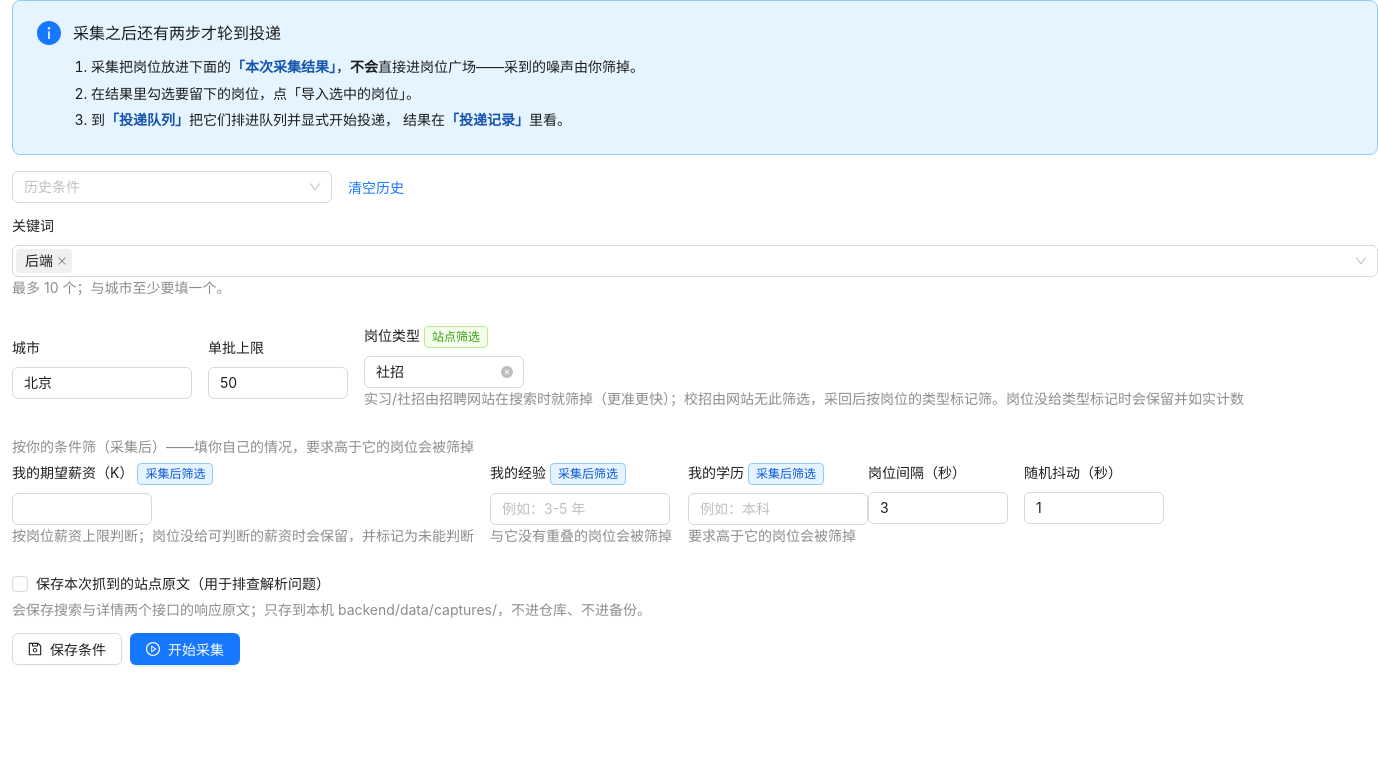
Test: CollectPanel 条件历史 › 历史下拉回填表单字段
# 保存「北京」，改成「上海」再保存一条 → 两条历史（各自自动选中）。
Click the button "保存条件": (67, 649) [12,633,122,665]
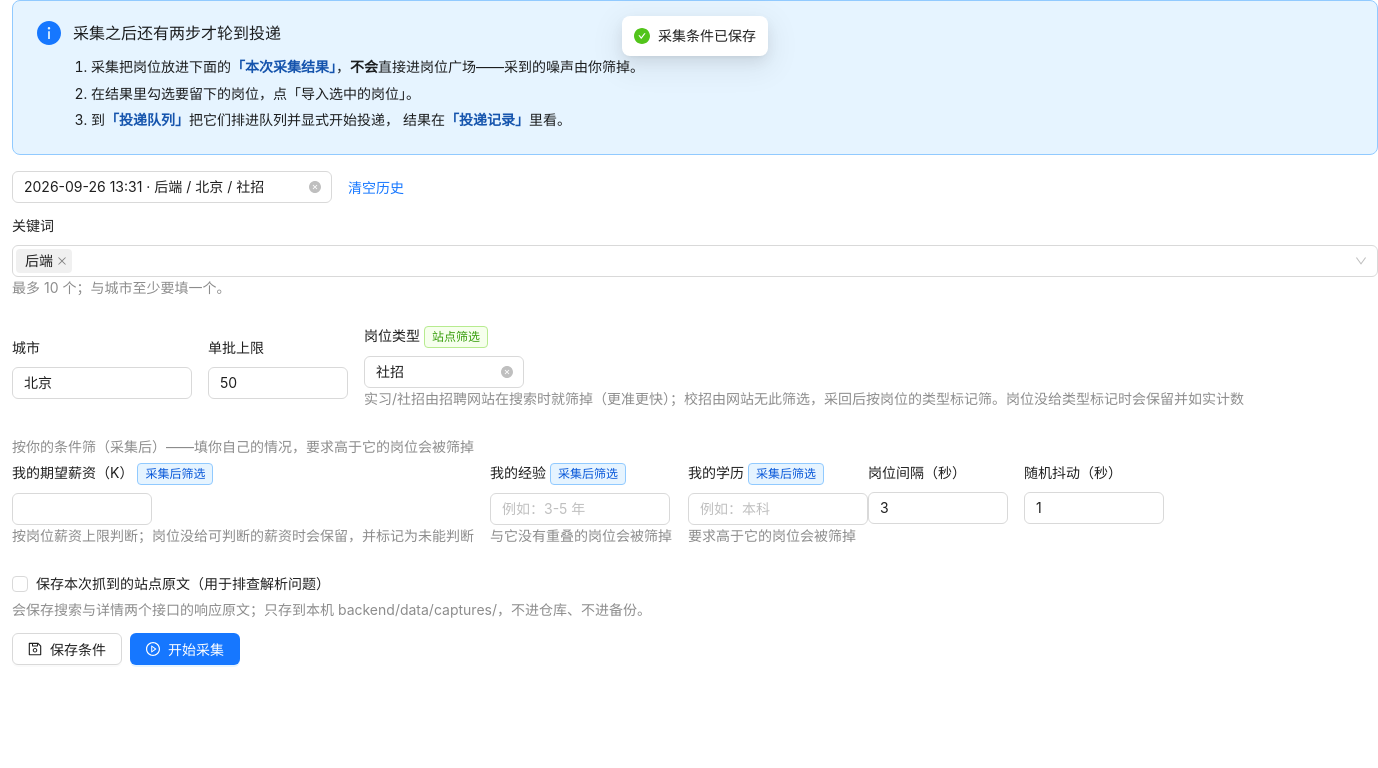
Replace the text in the field with placeholder "例如：北京" with "上海": (102, 383) [12,367,192,399]
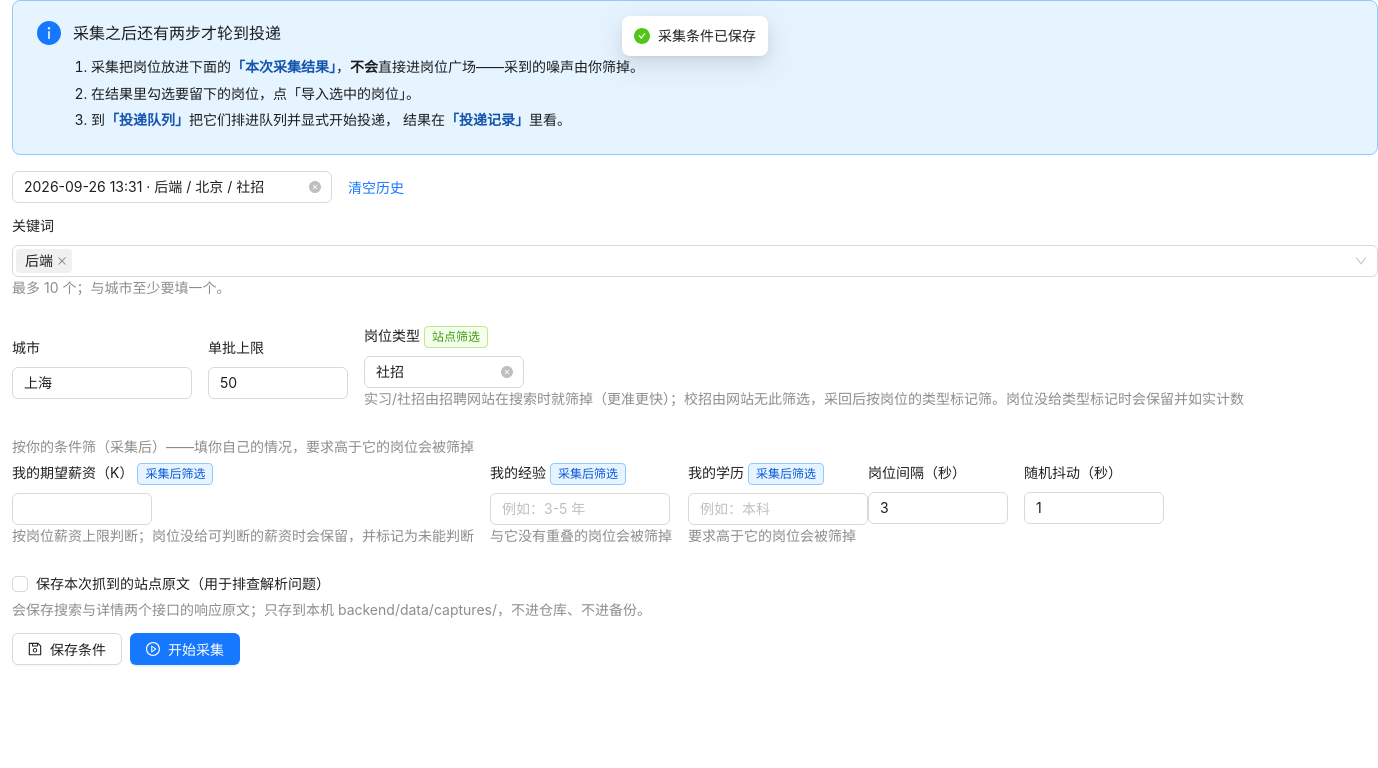
Click the button "保存条件": (67, 649) [12,633,122,665]
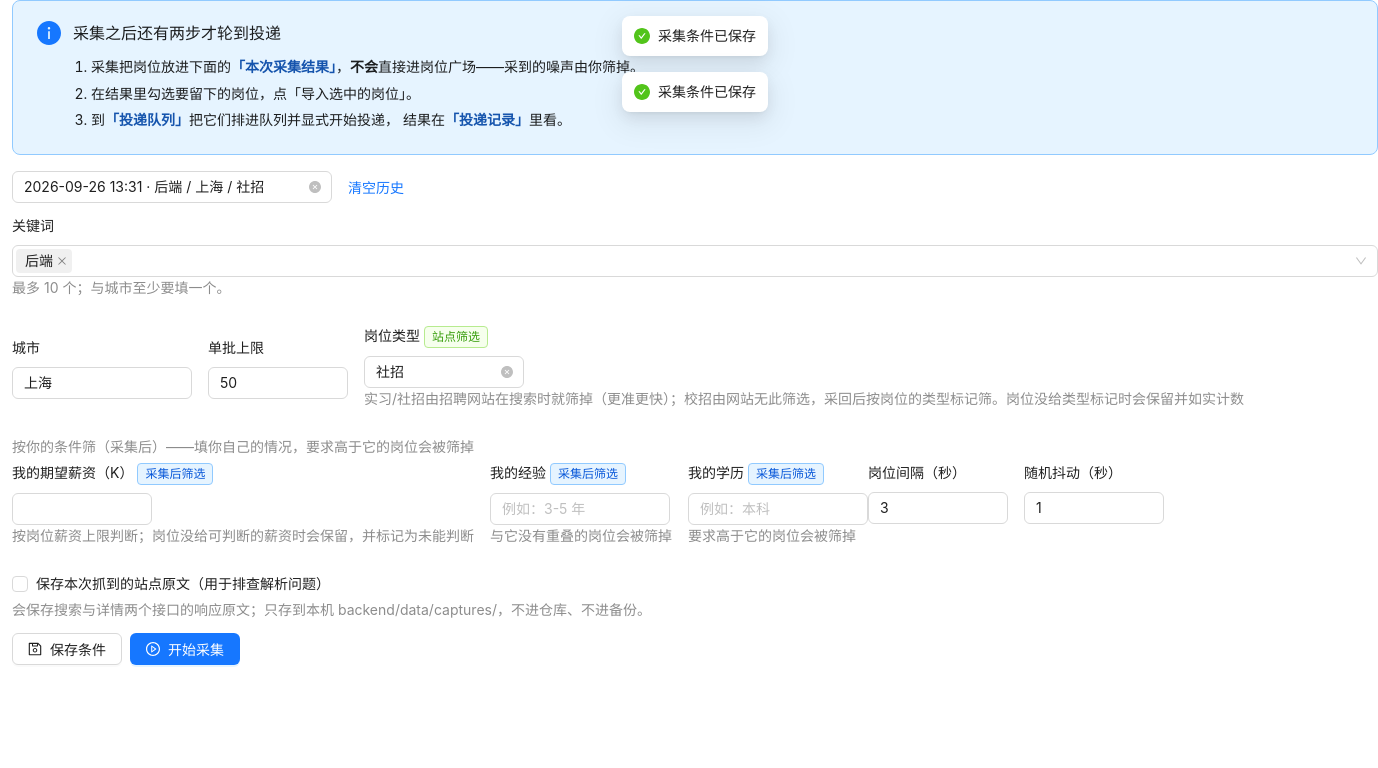
# 选中第一条（北京）历史：当前已选中「上海」，切到「北京」才会触发 onChange 回填。
Press the mouse on the dropdown named "历史条件": (144, 186) [24,178,264,195]
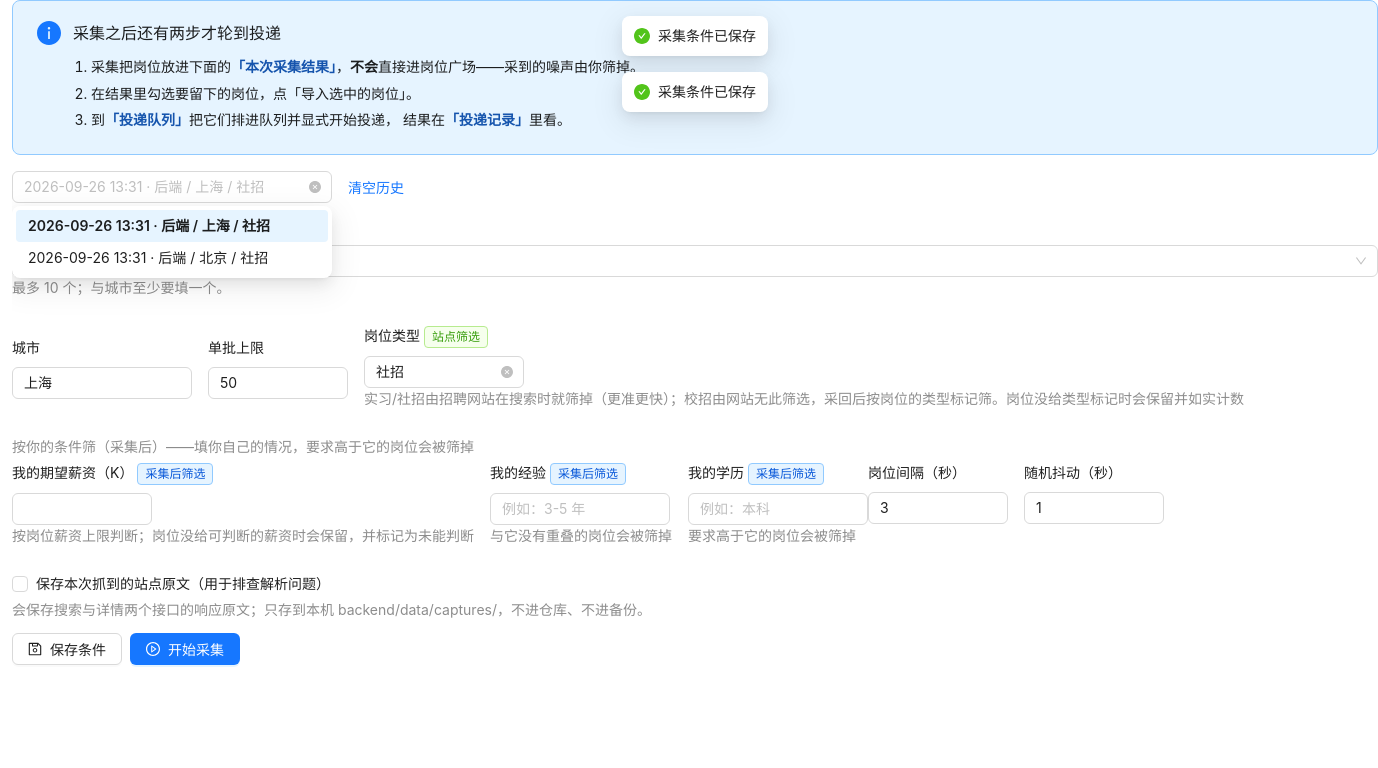
Click the text "2026-09-26 13:31 · 后端 / 北京 / 社招": (148, 258) [28,249,268,266]
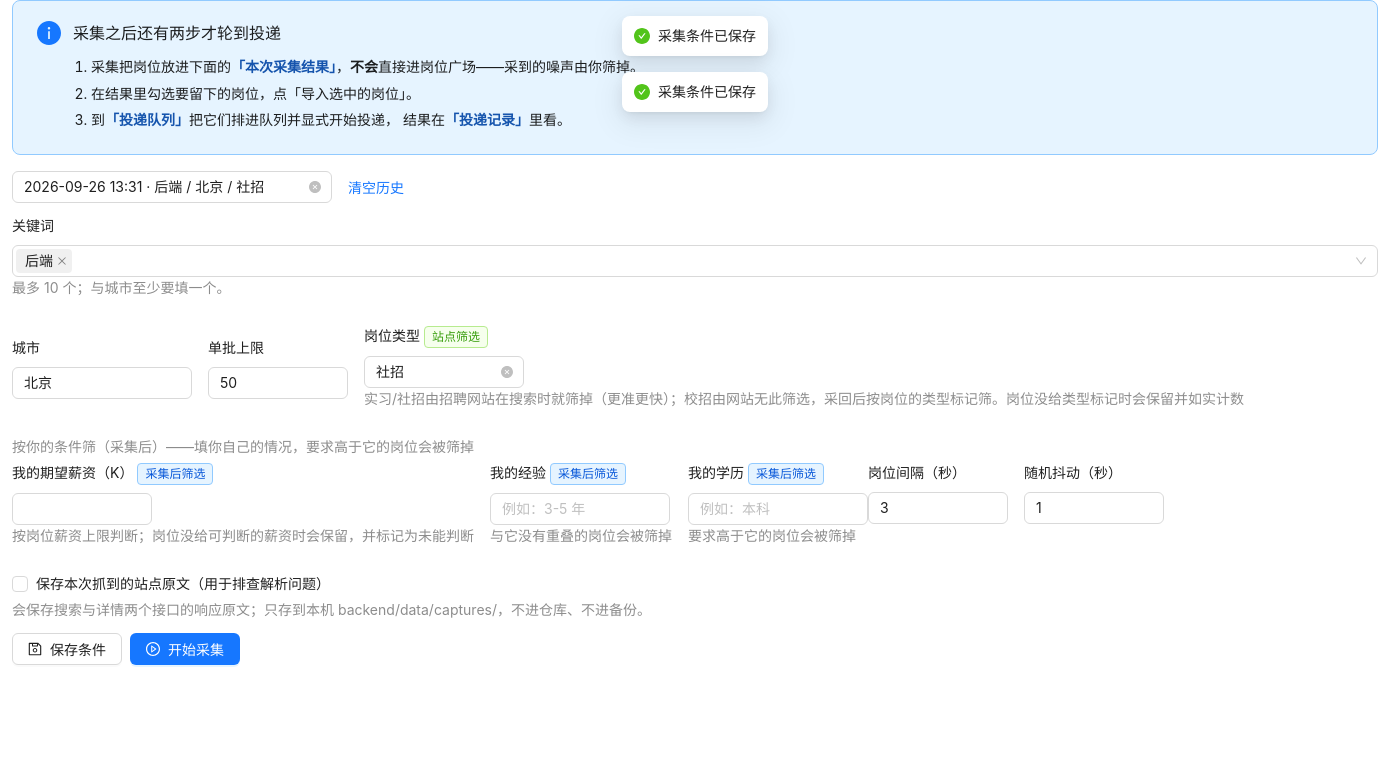
expect the field with placeholder "例如：北京" holds "北京": met, box [12,367,192,399]
